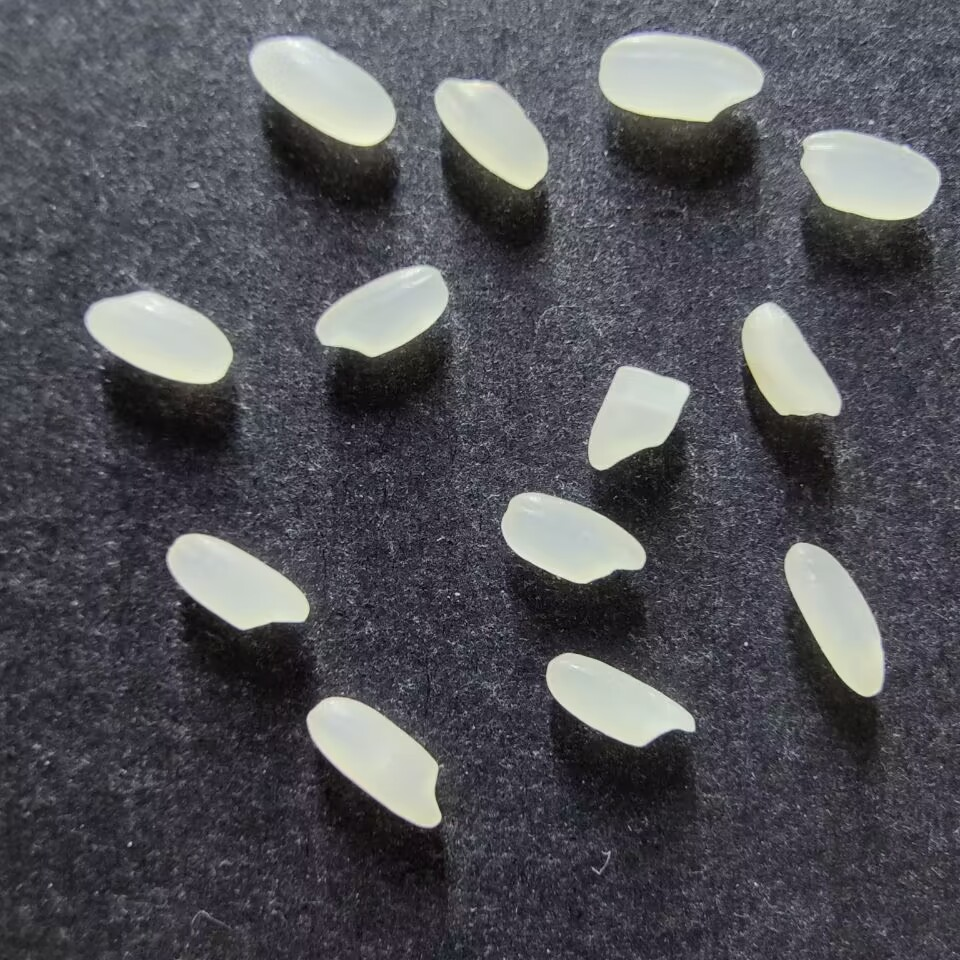broken: (586, 364, 691, 472)
rice: (305, 695, 445, 829), (248, 37, 398, 148), (782, 541, 888, 698), (597, 32, 765, 124), (544, 651, 697, 748), (165, 532, 311, 632), (82, 289, 234, 384), (498, 490, 648, 586), (432, 76, 550, 191), (798, 129, 942, 222), (312, 263, 451, 359), (740, 300, 844, 419)
